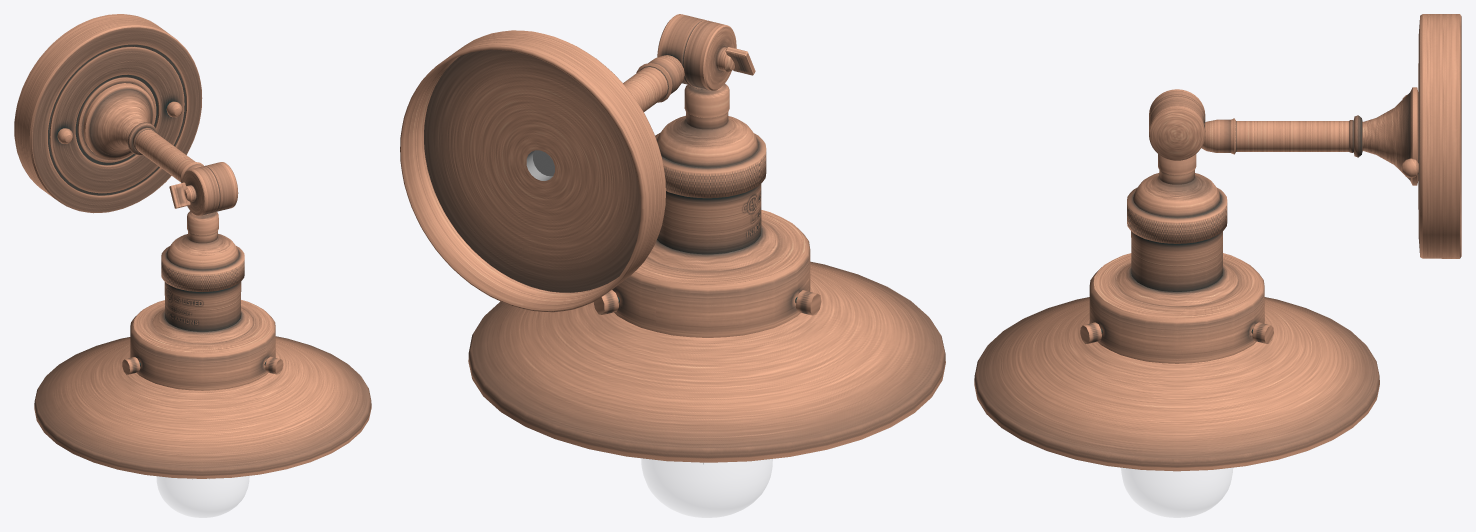
Rendered from AnisotropyBarnLamp.glb.
The picture shows the model from 3 angles, left to right: view 1: azimuth 30°, elevation 25°; view 2: azimuth 150°, elevation 25°; view 3: azimuth 270°, elevation 25°; orthographic projection. The views are drawn at different scales.
Parts seen in each view (by area): view 1: lamp, lamp glass; view 2: lamp, lamp glass; view 3: lamp, lamp glass.
Boxes of the visible parts, x1,y1,x2,y2 form: lamp: (14, 14, 371, 479); lamp glass: (157, 476, 249, 517); lamp: (400, 14, 945, 464); lamp glass: (641, 458, 772, 517); lamp: (974, 14, 1461, 471); lamp glass: (1121, 468, 1232, 517).
Size of the model in its own units: 0.1908 by 0.2552 by 0.2265.
3 materials, 1 textured.
